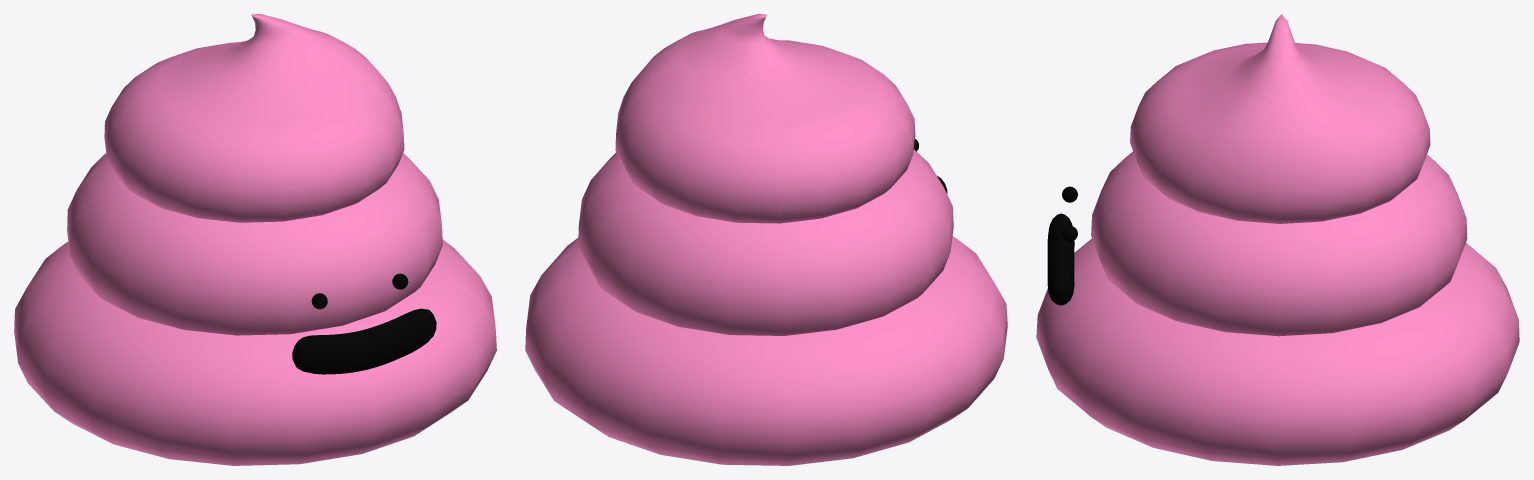
Rendered from unchan_pink.gltf.
The picture shows the model from 3 angles, left to right: view 1: azimuth 30°, elevation 25°; view 2: azimuth 150°, elevation 25°; view 3: azimuth 270°, elevation 25°; orthographic projection.
Visible parts, largest first — view 1: layer_1, layer_2, layer_3, layer_5; view 2: layer_1, layer_2, layer_3; view 3: layer_1, layer_2, layer_3, layer_5.
Part boxes in pixels (x1,y1,x2,y2): layer_1: [14, 239, 496, 465]; layer_2: [104, 14, 404, 222]; layer_3: [67, 153, 442, 335]; layer_5: [292, 308, 436, 374]; layer_1: [525, 236, 1007, 465]; layer_2: [615, 14, 915, 223]; layer_3: [578, 149, 953, 335]; layer_1: [1036, 239, 1519, 465]; layer_2: [1130, 14, 1430, 223]; layer_3: [1091, 151, 1467, 336]; layer_5: [1047, 213, 1074, 305].
Size of the model in its own units: 3.45 by 2.94 by 3.45.
Materials: 5 (5 with a texture image).
